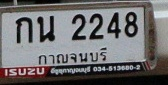txt01: (14, 17, 34, 44)
txt20: (36, 15, 56, 43)
